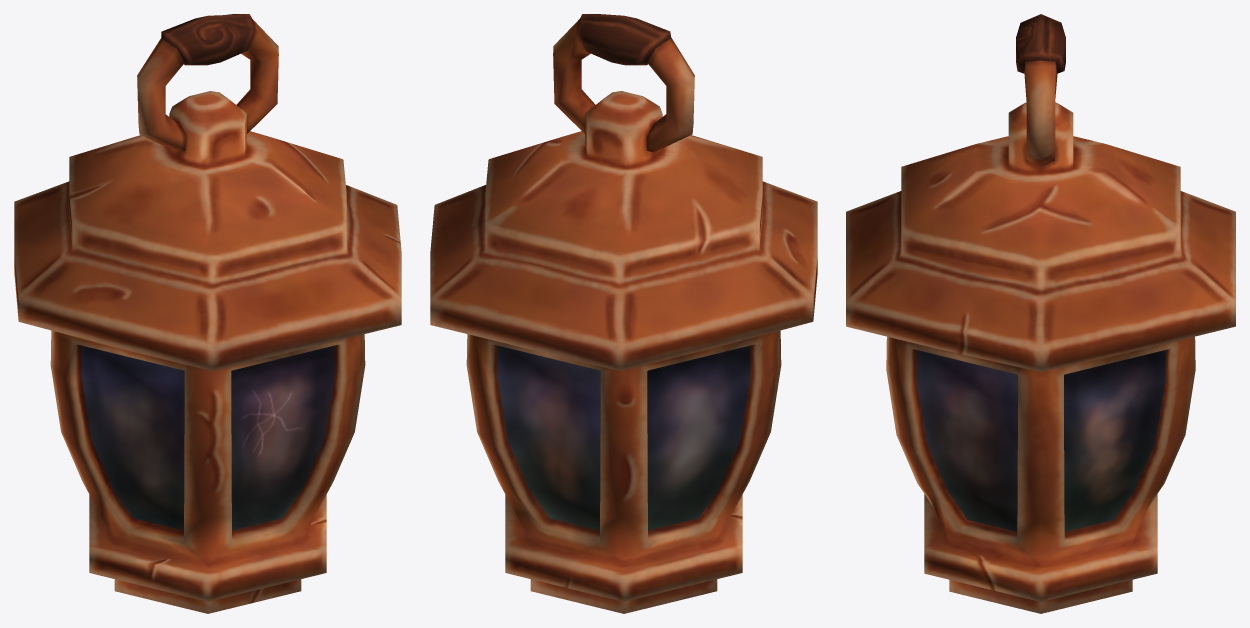
The model's file is Lamp.fbx.
3 renders of one model, left to right at view 1: azimuth 30°, elevation 25°; view 2: azimuth 150°, elevation 25°; view 3: azimuth 270°, elevation 25°, orthographic.
Parts seen in each view (by area): view 1: Lamp; view 2: Lamp; view 3: Lamp.
Part boxes in pixels (bbox=[...]): Lamp: bbox=[14, 14, 401, 613]; Lamp: bbox=[430, 14, 817, 613]; Lamp: bbox=[846, 14, 1235, 613].
Size of the model in its own units: 29.44 by 45.29 by 32.48.
